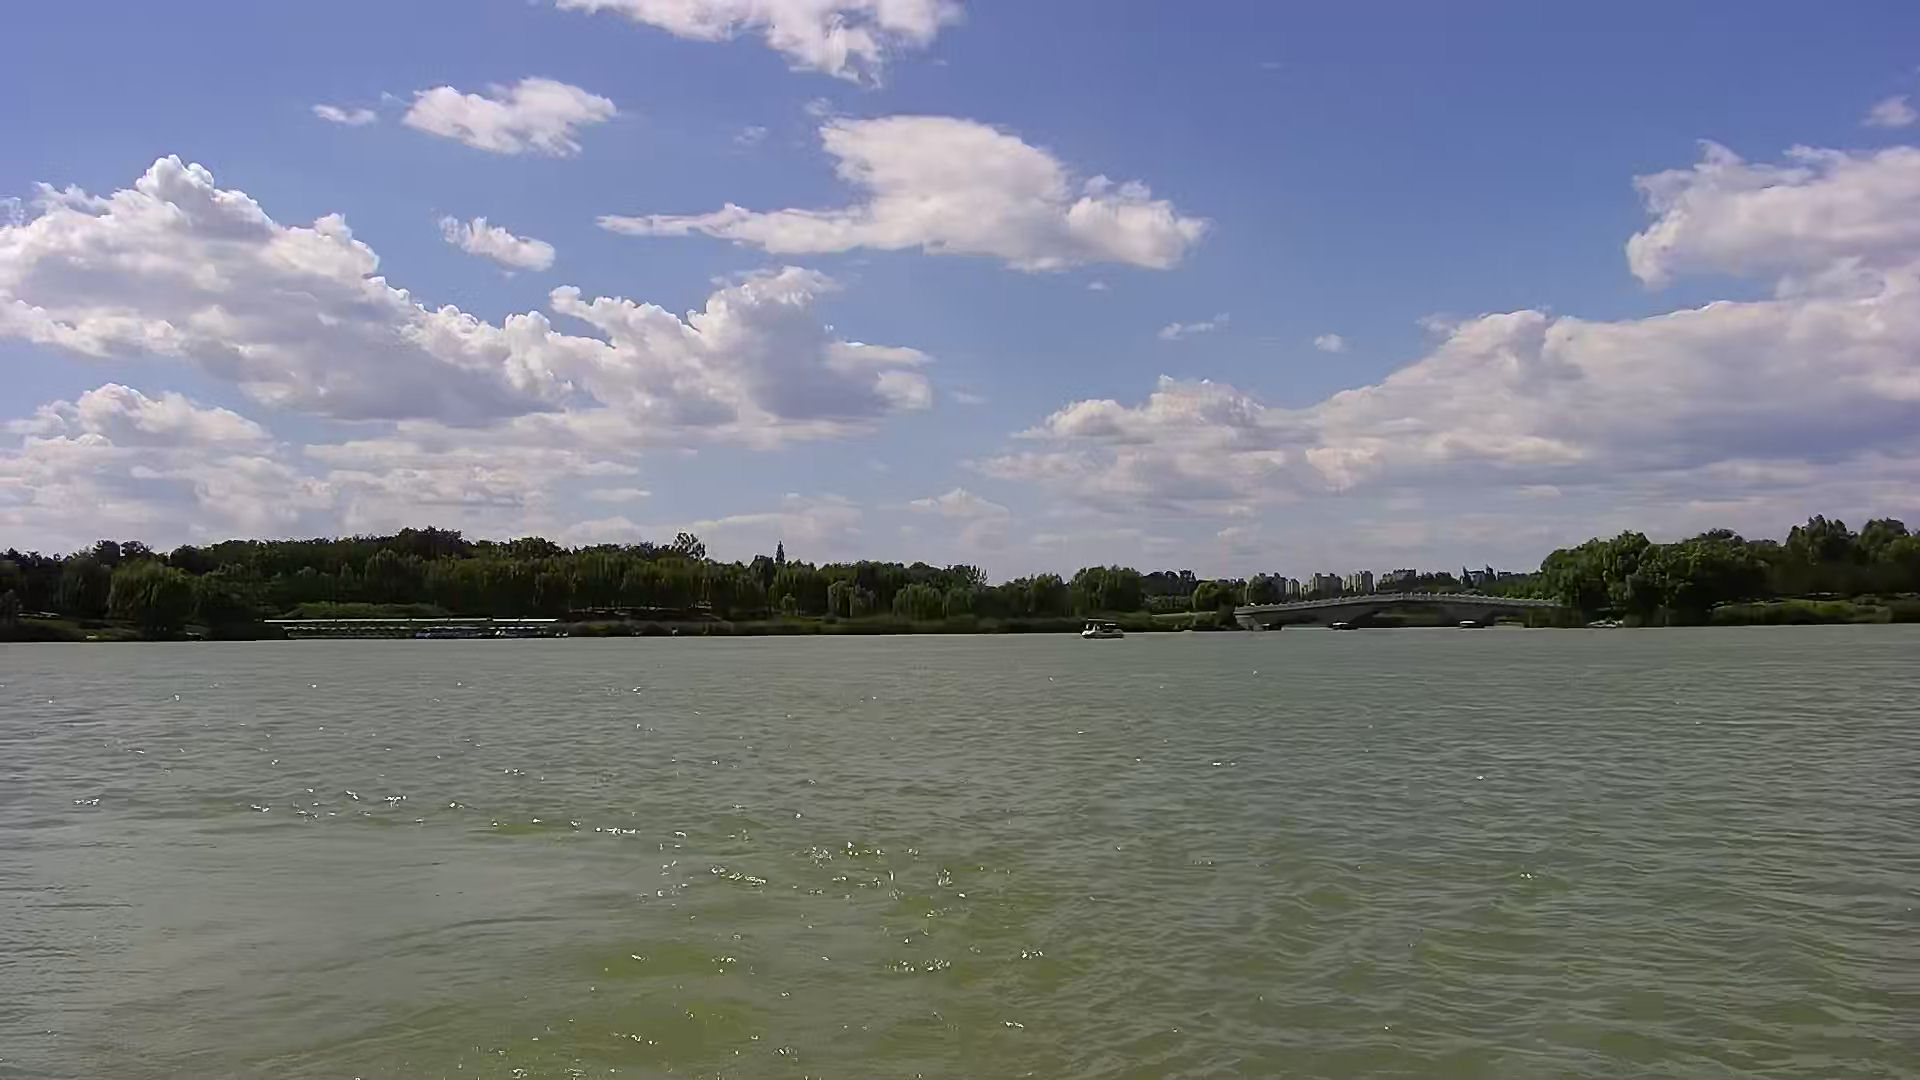boat: (1077, 618, 1126, 640)
bridge: (1232, 592, 1563, 630), (266, 618, 558, 640)
